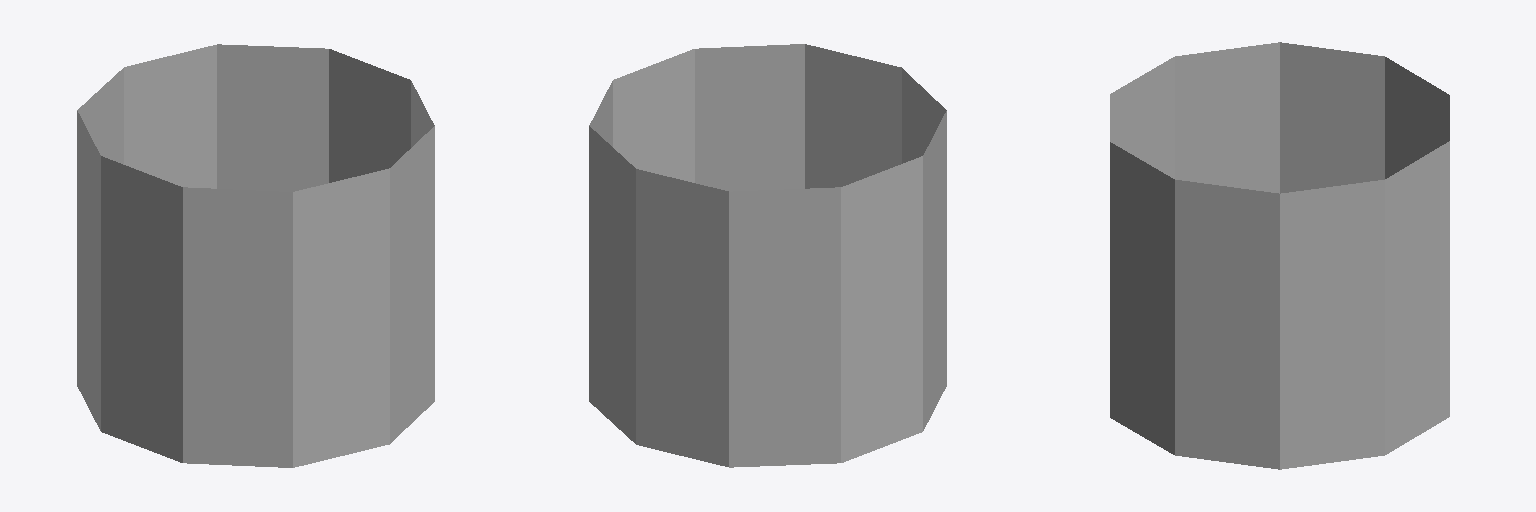
The model's file is LAMPSHADE.obj.
3 renders of one model, left to right at view 1: azimuth 30°, elevation 25°; view 2: azimuth 150°, elevation 25°; view 3: azimuth 270°, elevation 25°, orthographic.
Parts seen in each view (by area): view 1: bedroom#2.006_Mesh.005; view 2: bedroom#2.006_Mesh.005; view 3: bedroom#2.006_Mesh.005.
Part boxes in pixels (left/top/right/bottom): bedroom#2.006_Mesh.005: left=77, top=44, right=434, bottom=467; bedroom#2.006_Mesh.005: left=589, top=44, right=946, bottom=467; bedroom#2.006_Mesh.005: left=1110, top=42, right=1449, bottom=469.
Size of the model in its own units: 0.8624 by 0.733 by 0.8193.